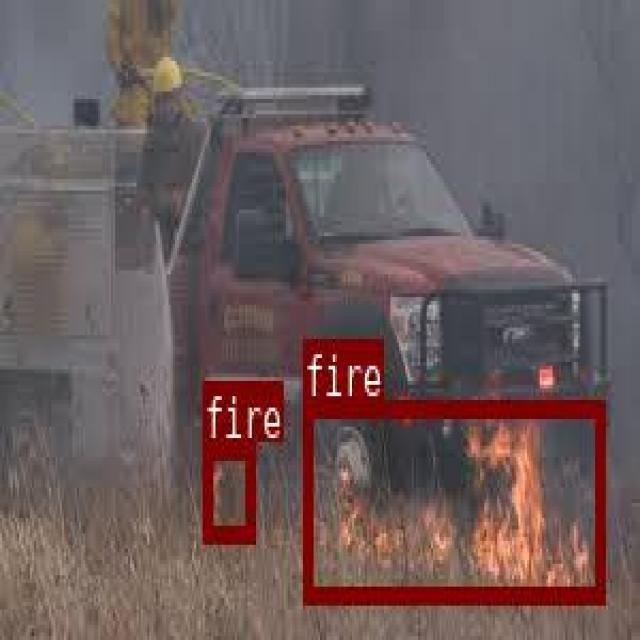fire: (301, 399, 602, 598), (201, 442, 254, 539)
